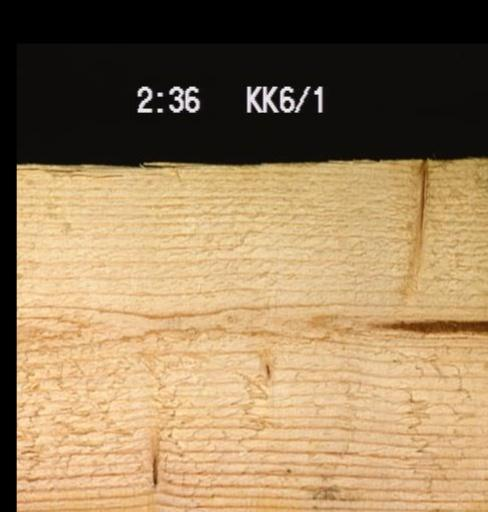small_knot: (250, 356, 281, 389)
split: (16, 163, 128, 181)
